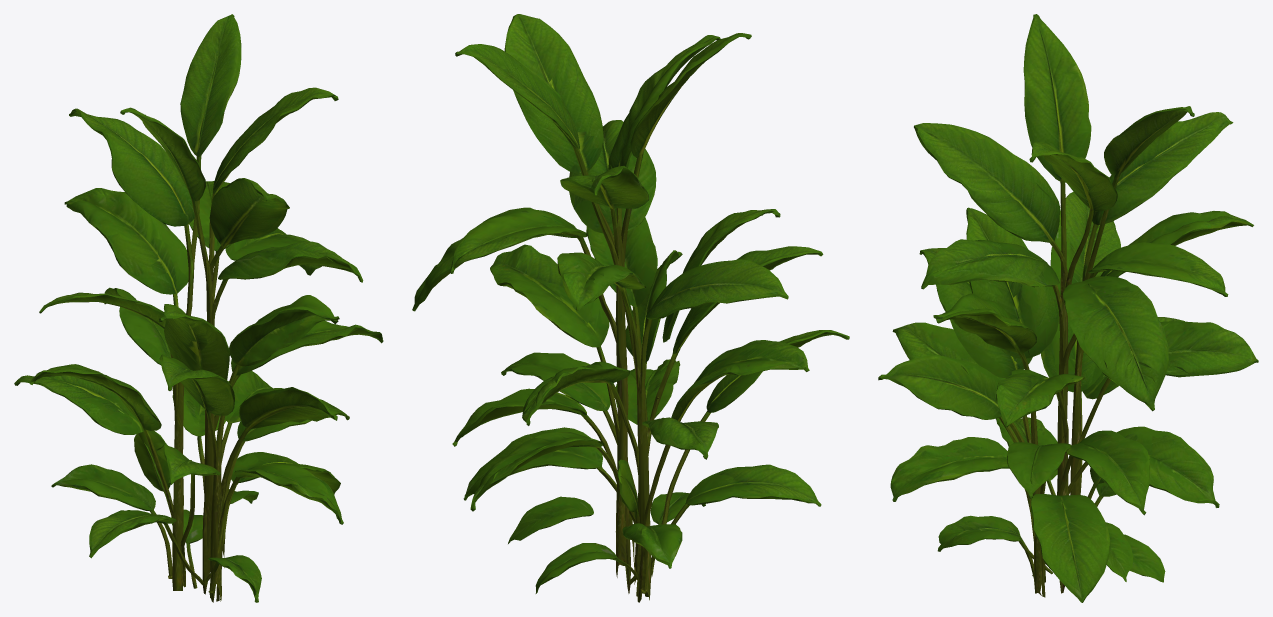
Rendered from Big_Plant_Leaves.glb.
3 views of the same model, side by side, from view 1: azimuth 30°, elevation 25°; view 2: azimuth 150°, elevation 25°; view 3: azimuth 270°, elevation 25° (orthographic). The views are drawn at different scales.
Visible parts, largest first — view 1: Big_Plant_Leaves; view 2: Big_Plant_Leaves; view 3: Big_Plant_Leaves.
Boxes of the visible parts, x1=… form: Big_Plant_Leaves: x1=14, y1=14, x2=383, y2=602; Big_Plant_Leaves: x1=412, y1=14, x2=849, y2=602; Big_Plant_Leaves: x1=878, y1=14, x2=1258, y2=602.
Size of the model in its own units: 0.9068 by 1.4 by 0.9054.
1 material, 1 textured.
